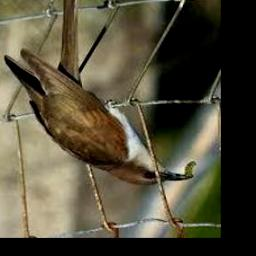Cuckoo: (5, 0, 194, 186)
